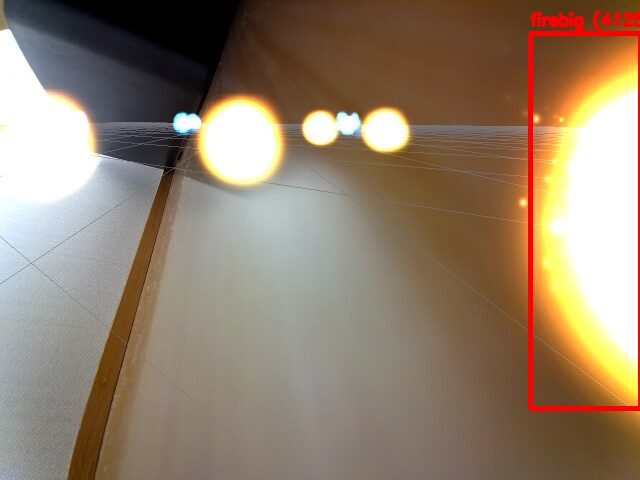firebig: (530, 33, 640, 408)
